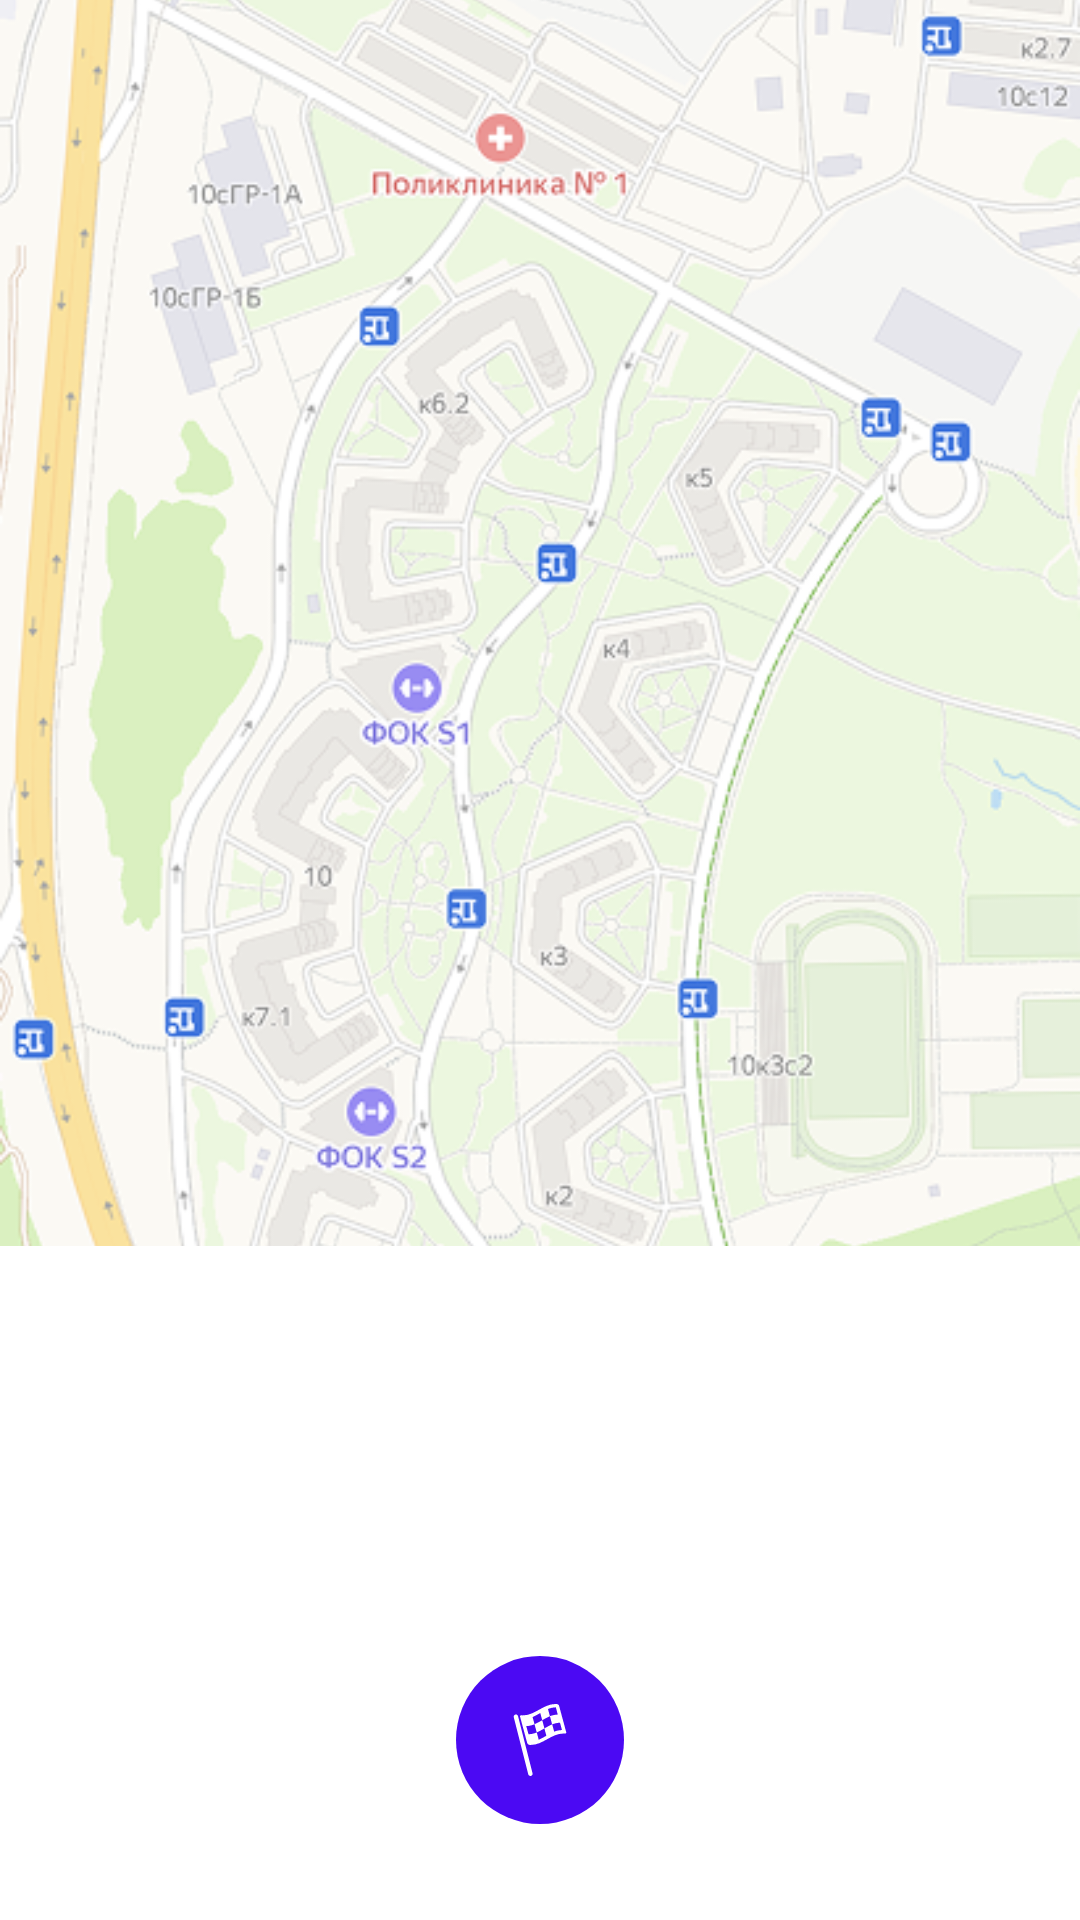

Where to tap for icons on this 1080x1920 app screen, as point (x, y):
finish: point (540, 1740)
